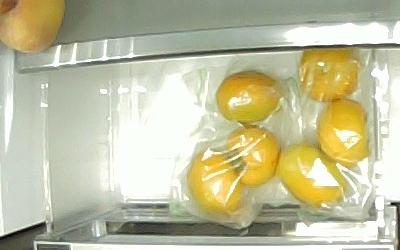persimmon_vinyl: (276, 142, 347, 207), (185, 147, 243, 216), (214, 68, 283, 125), (314, 97, 371, 166), (223, 124, 281, 187), (297, 48, 363, 102)
